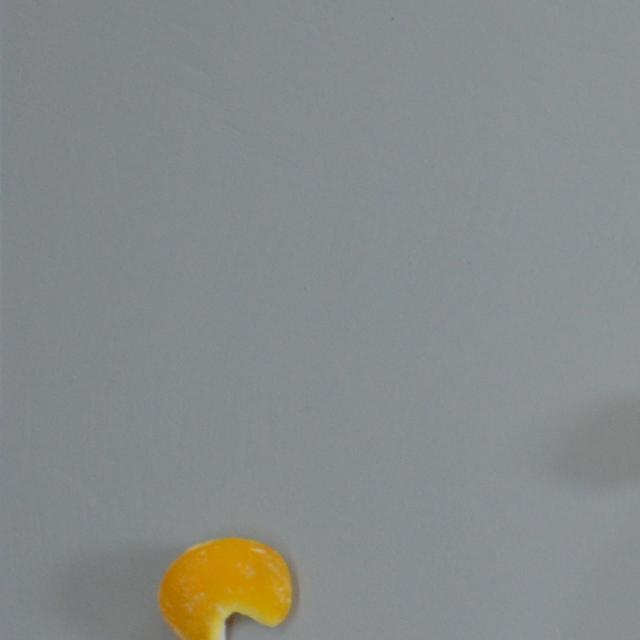no_canjicado: (156, 536, 294, 640)
